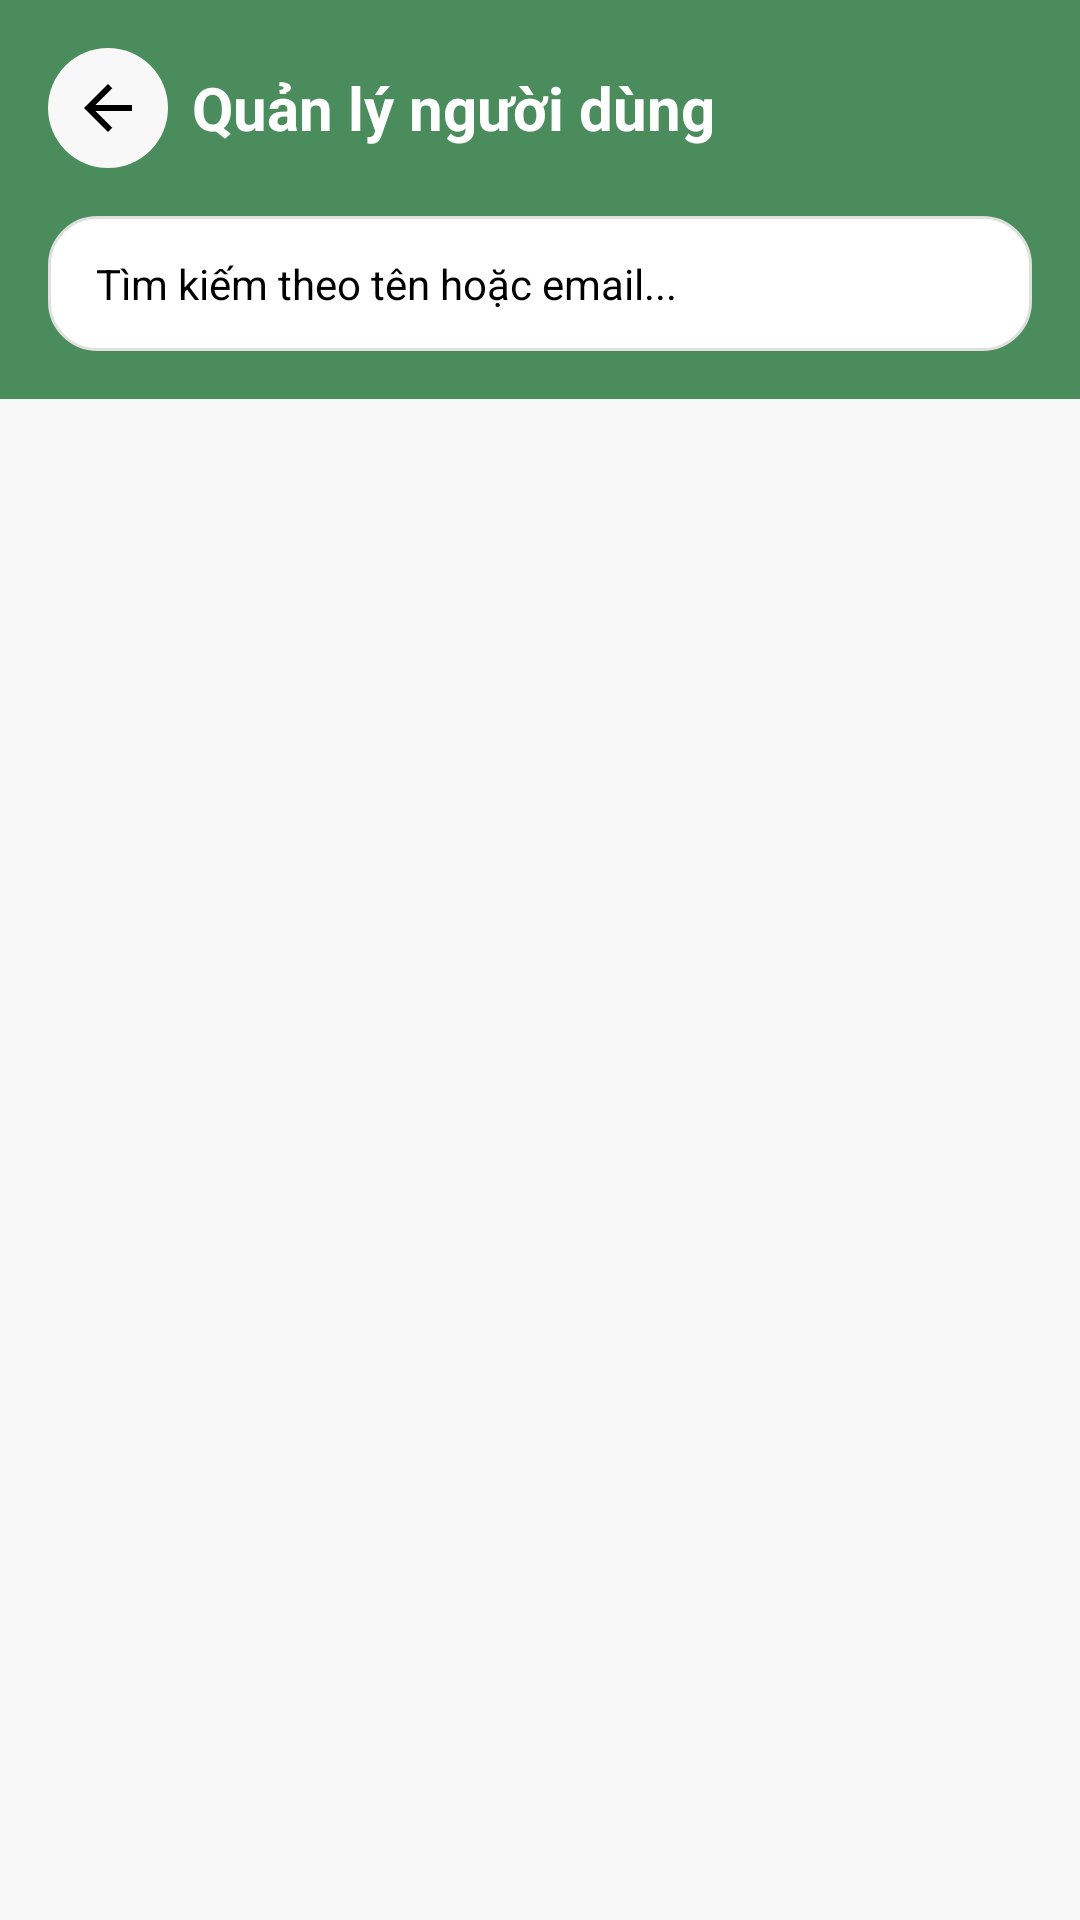

Icon bounding boxes for this 1080 x 1920 phone screenshot, format (x1, y1, x2, y2):
arrow back: (48, 48, 168, 168)
